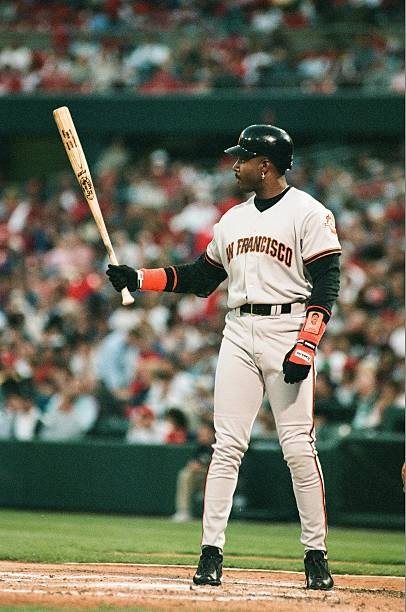bita: (53, 105, 136, 306)
